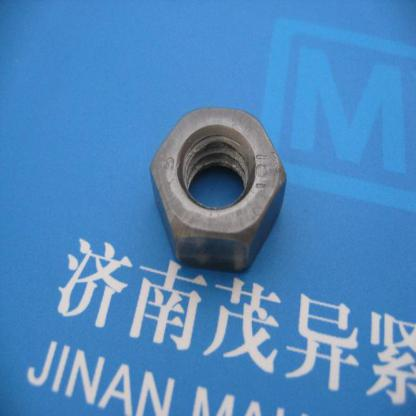FOD: (149, 103, 289, 276)
